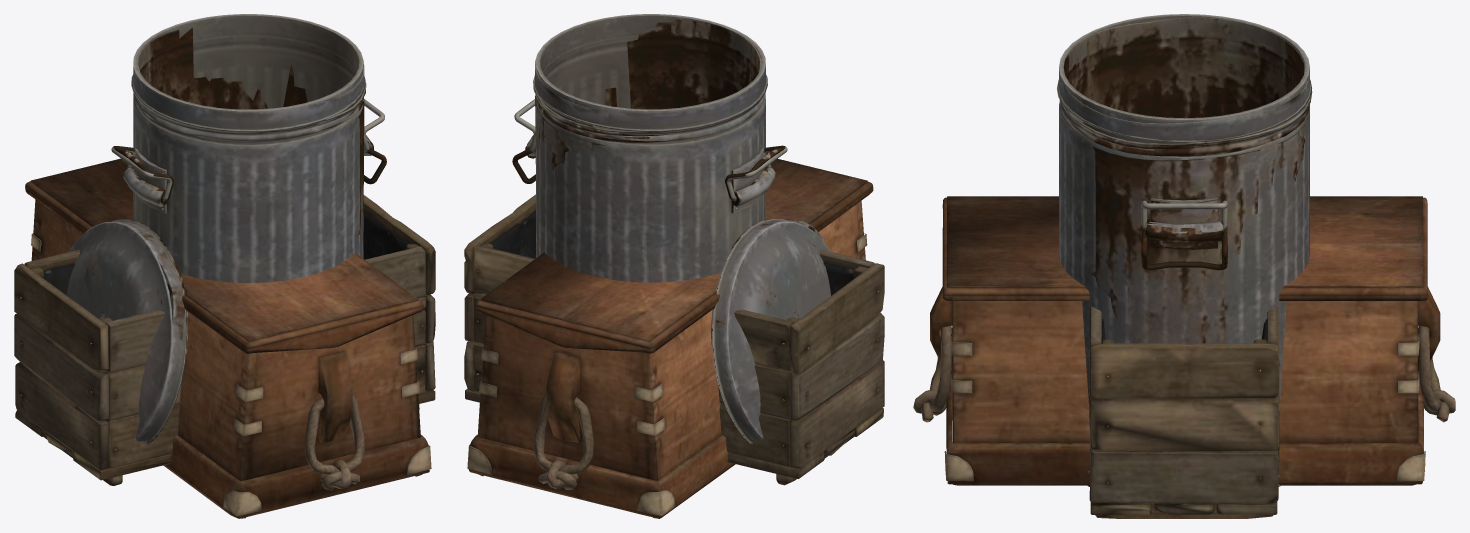
The model's file is street-dressing.glb.
The picture shows the model from 3 angles, left to right: view 1: azimuth 30°, elevation 25°; view 2: azimuth 150°, elevation 25°; view 3: azimuth 270°, elevation 25°; orthographic projection. The views are drawn at different scales.
Parts seen in each view (by area): view 1: metal_trash_can, wooden_crate_02_crate, planter_box_01, wooden_crate_02_lid, metal_trash_can_lid, metal_trash_can_rust, metal_trash_can_rust_lid; view 2: metal_trash_can, wooden_crate_02_crate, planter_box_01, wooden_crate_02_lid, metal_trash_can_rust, metal_trash_can_lid, metal_trash_can_rust_lid; view 3: wooden_crate_02_crate, metal_trash_can_rust, planter_box_01, wooden_crate_02_lid, metal_trash_can, metal_trash_can_rust_handle_right, metal_trash_can_handle_right.
Part boxes in pixels (left/top/right/bottom): metal_trash_can: left=123, top=14, right=373, bottom=282; wooden_crate_02_crate: left=31, top=199, right=431, bottom=518; planter_box_01: left=14, top=195, right=435, bottom=485; wooden_crate_02_lid: left=25, top=158, right=423, bottom=353; metal_trash_can_lid: left=66, top=219, right=186, bottom=444; metal_trash_can_rust: left=126, top=27, right=373, bottom=250; metal_trash_can_rust_lid: left=84, top=220, right=188, bottom=444; metal_trash_can: left=526, top=14, right=775, bottom=282; wooden_crate_02_crate: left=467, top=200, right=867, bottom=518; planter_box_01: left=464, top=194, right=884, bottom=485; wooden_crate_02_lid: left=475, top=158, right=873, bottom=353; metal_trash_can_rust: left=525, top=19, right=767, bottom=213; metal_trash_can_lid: left=712, top=219, right=830, bottom=443; metal_trash_can_rust_lid: left=711, top=218, right=826, bottom=349; wooden_crate_02_crate: left=913, top=286, right=1455, bottom=485; metal_trash_can_rust: left=1060, top=17, right=1312, bottom=486; planter_box_01: left=1088, top=306, right=1280, bottom=518; wooden_crate_02_lid: left=942, top=196, right=1427, bottom=300; metal_trash_can: left=1057, top=14, right=1311, bottom=410; metal_trash_can_rust_handle_right: left=1141, top=228, right=1227, bottom=270; metal_trash_can_handle_right: left=1141, top=200, right=1227, bottom=229.
Bounding box in the file's own units: 0.9126 × 0.9062 × 1.16.
Materials: 18 (18 with a texture image).
